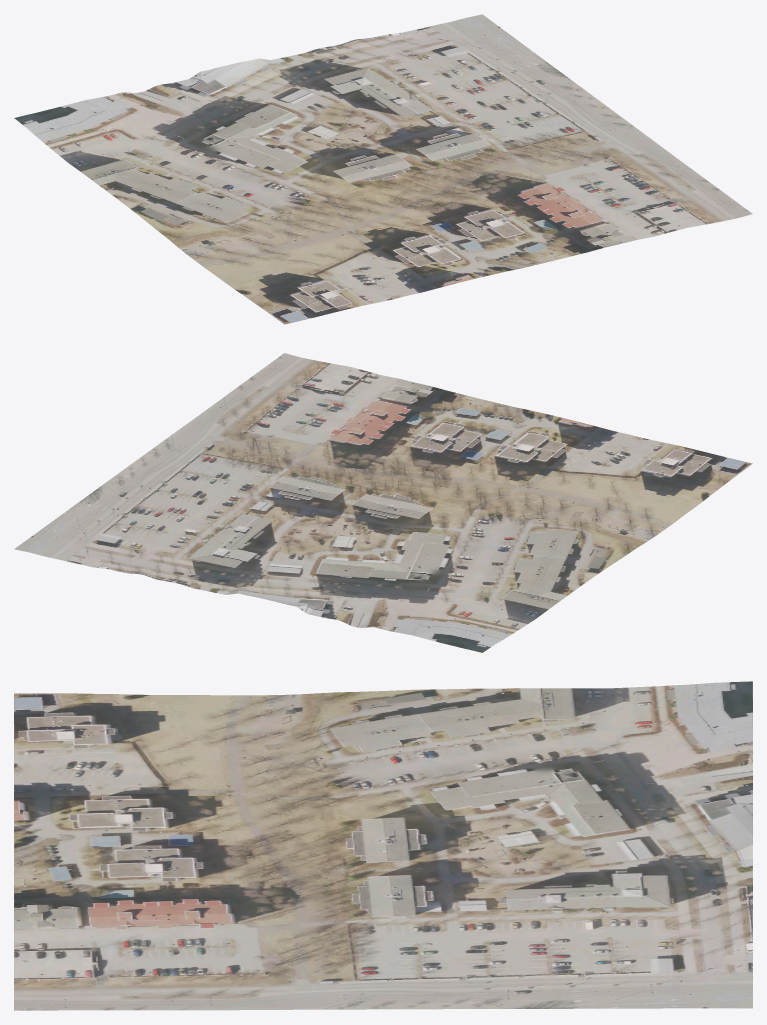
The model's file is CM_Terrain_24487182_6818975.fbx.
The picture shows the model from 3 angles, top to bottom: view 1: azimuth 30°, elevation 25°; view 2: azimuth 150°, elevation 25°; view 3: azimuth 270°, elevation 25°; orthographic projection. The views are drawn at different scales.
Visible parts, largest first — view 1: CM_Terrain_24487182_6818975_LOD0; view 2: CM_Terrain_24487182_6818975_LOD0; view 3: CM_Terrain_24487182_6818975_LOD0.
Part boxes in pixels (bbox=[...]): CM_Terrain_24487182_6818975_LOD0: bbox=[14, 14, 752, 324]; CM_Terrain_24487182_6818975_LOD0: bbox=[14, 353, 752, 652]; CM_Terrain_24487182_6818975_LOD0: bbox=[14, 681, 752, 1010].
Size of what is drawn, in the model's own units: 205 by 5.73 by 205.
